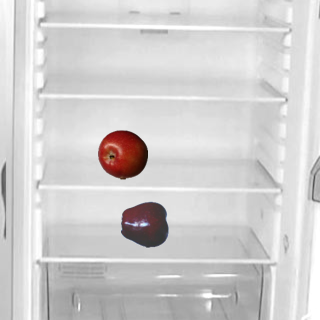Apple Braeburn: (97, 129, 147, 179)
Apple Red Delicious: (120, 199, 170, 249)
